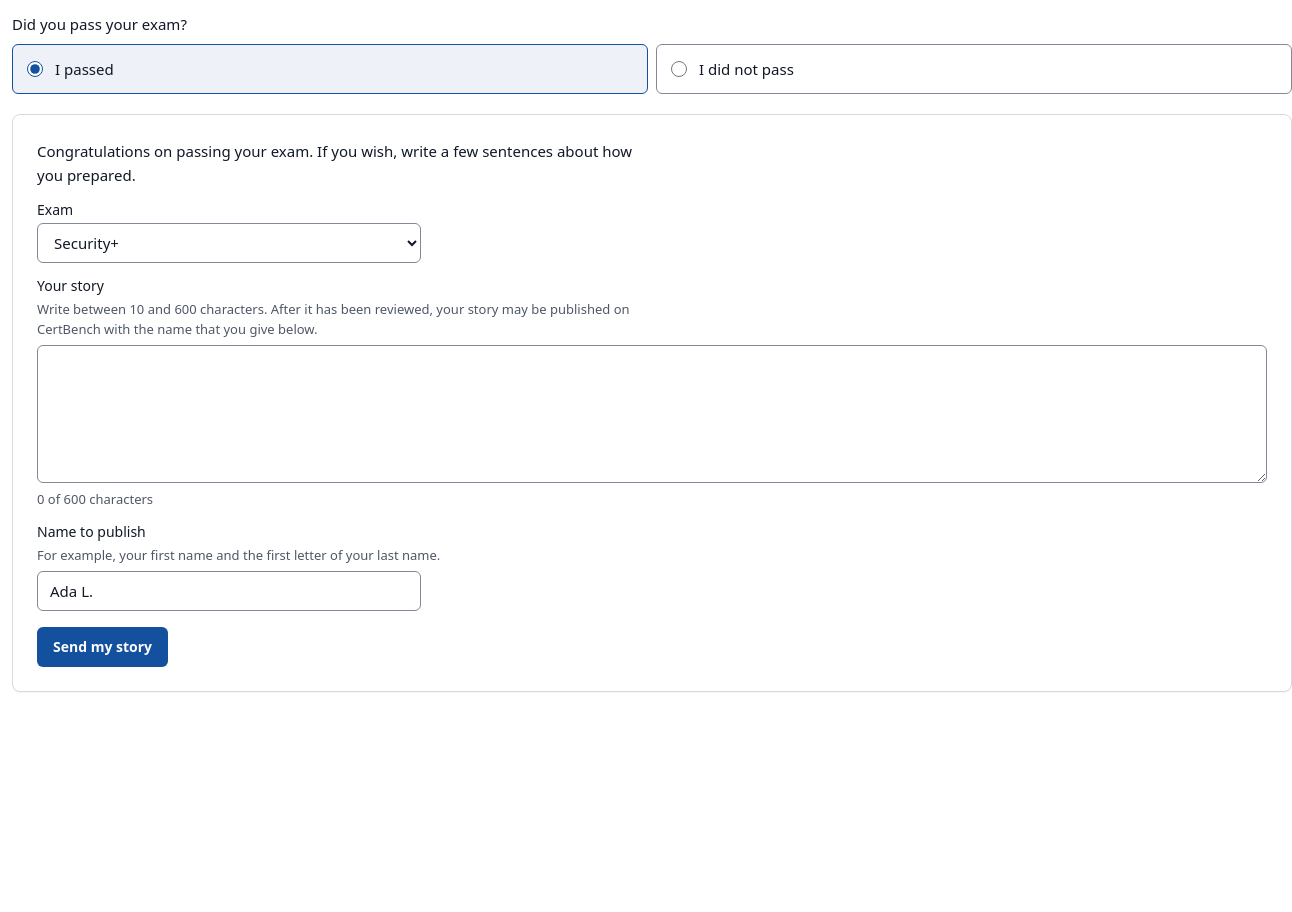
FeedbackClient › shows the server's sentence when a story was already sent for this exam
In the text box labelled "Your story": (652, 414) x1=37 y1=345 x2=1267 y2=483, type "A story that is long enough."
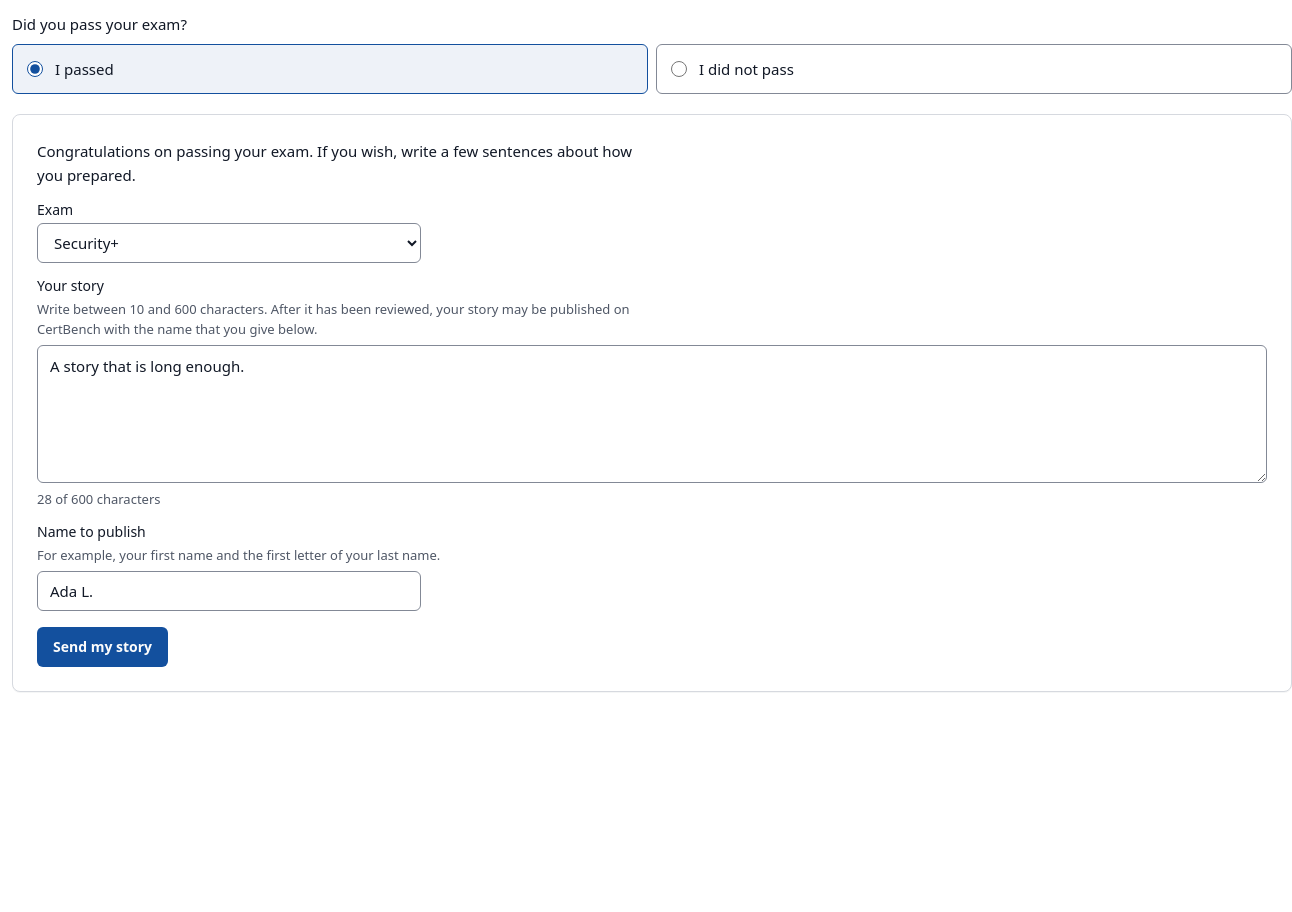
Click the button "Send my story": (103, 647) x1=37 y1=627 x2=168 y2=667
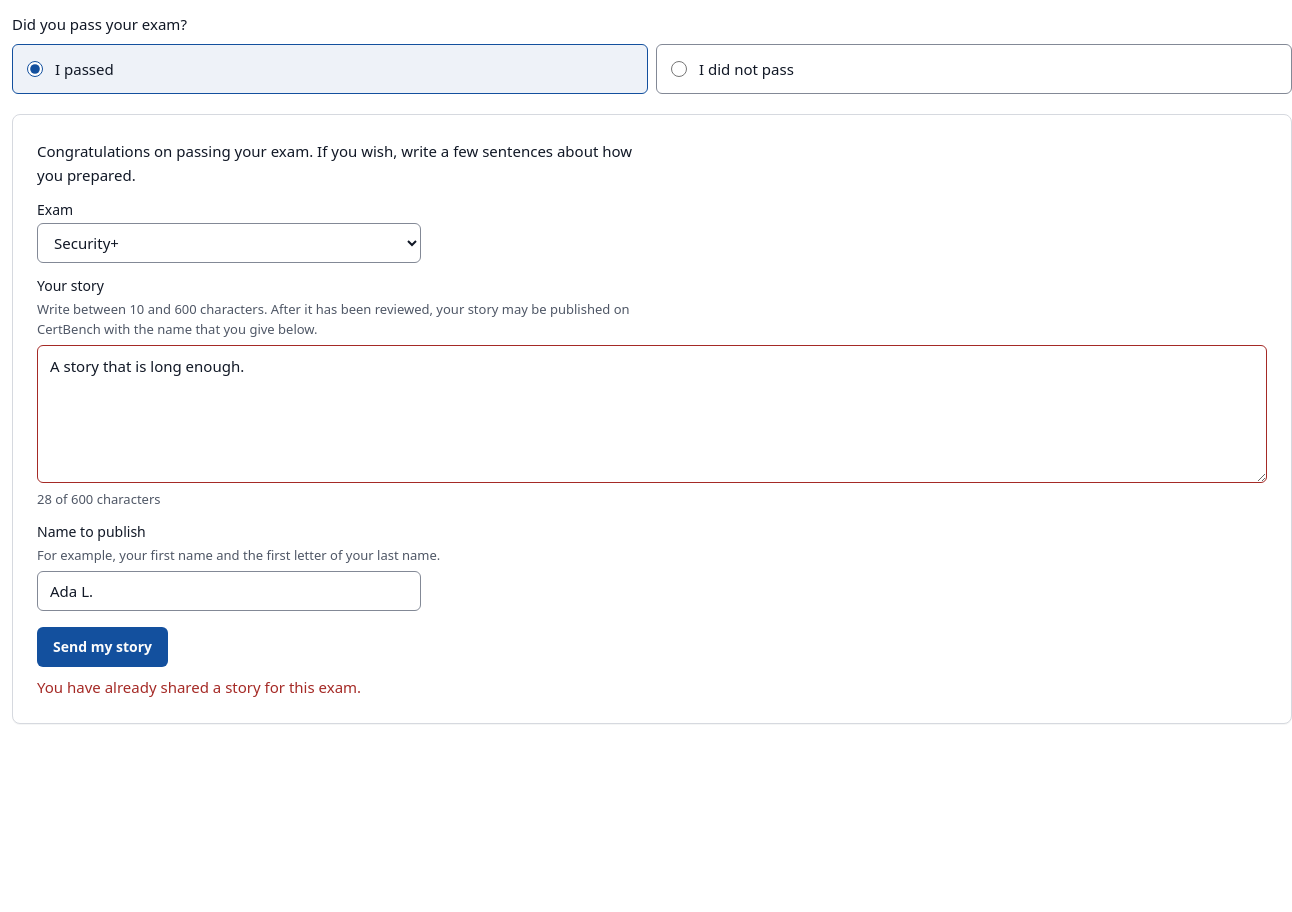
Expected: the message reads "You have already shared a story for this exam.", x1=37 y1=677 x2=361 y2=697
